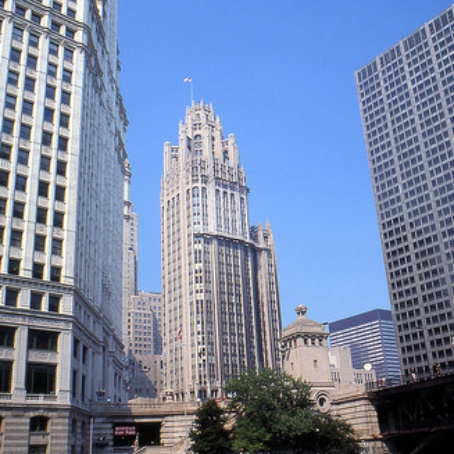building: (1, 3, 126, 454), (161, 111, 281, 388), (358, 27, 454, 346)
sky: (138, 1, 372, 268)
tree: (197, 371, 344, 454)
